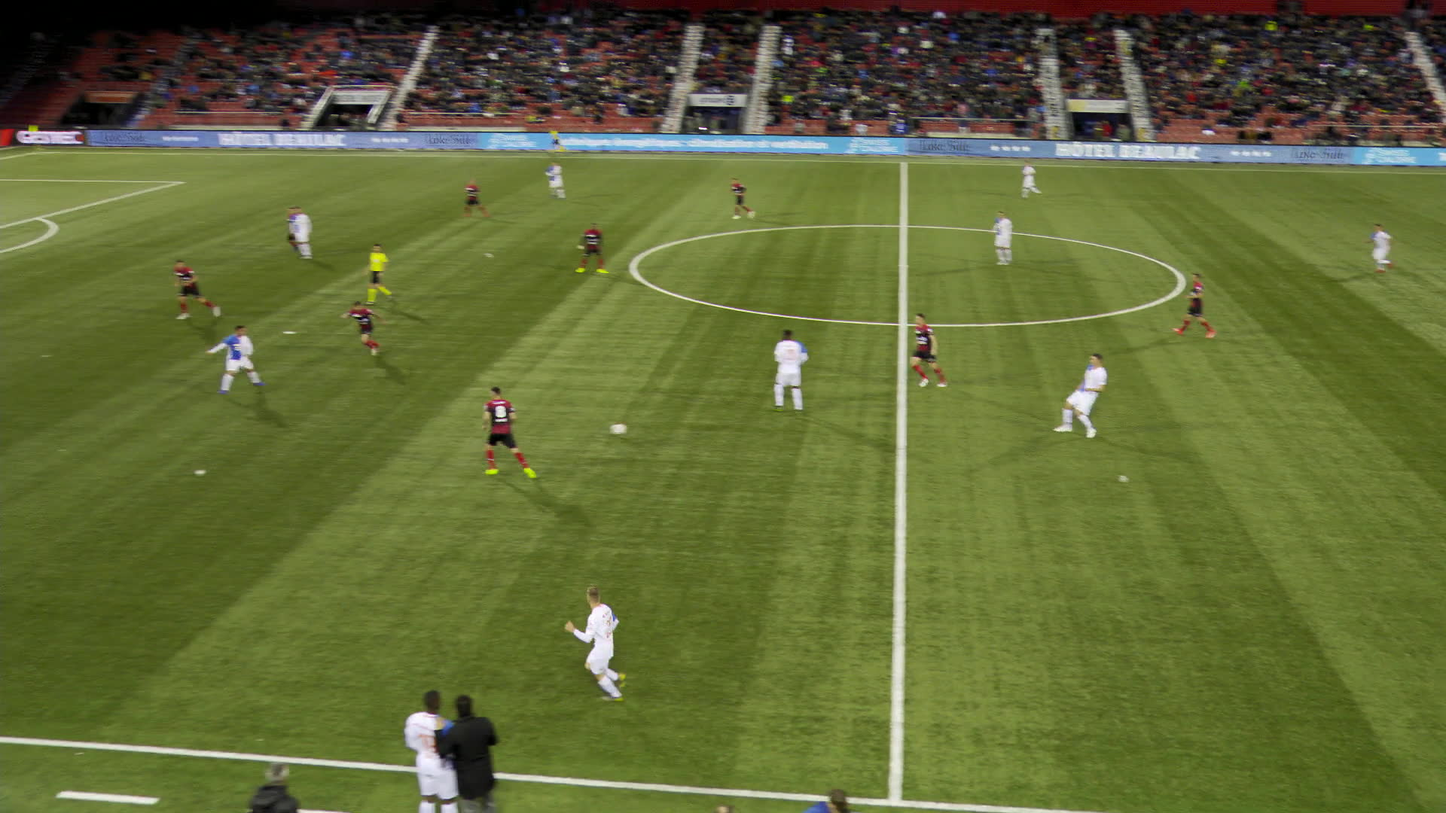ball: (623, 423, 640, 434)
player: (566, 583, 638, 701), (467, 386, 520, 478), (1047, 352, 1104, 437), (200, 326, 251, 393), (764, 326, 799, 414), (161, 259, 207, 318), (905, 311, 938, 387), (332, 299, 375, 355), (1175, 273, 1207, 337), (566, 221, 596, 272), (278, 205, 306, 259), (981, 210, 1008, 265), (1364, 223, 1393, 272), (718, 176, 745, 218), (451, 177, 475, 216), (533, 160, 553, 199), (1015, 159, 1033, 196), (286, 208, 297, 249)
referee: (355, 242, 386, 301), (536, 127, 556, 151)
